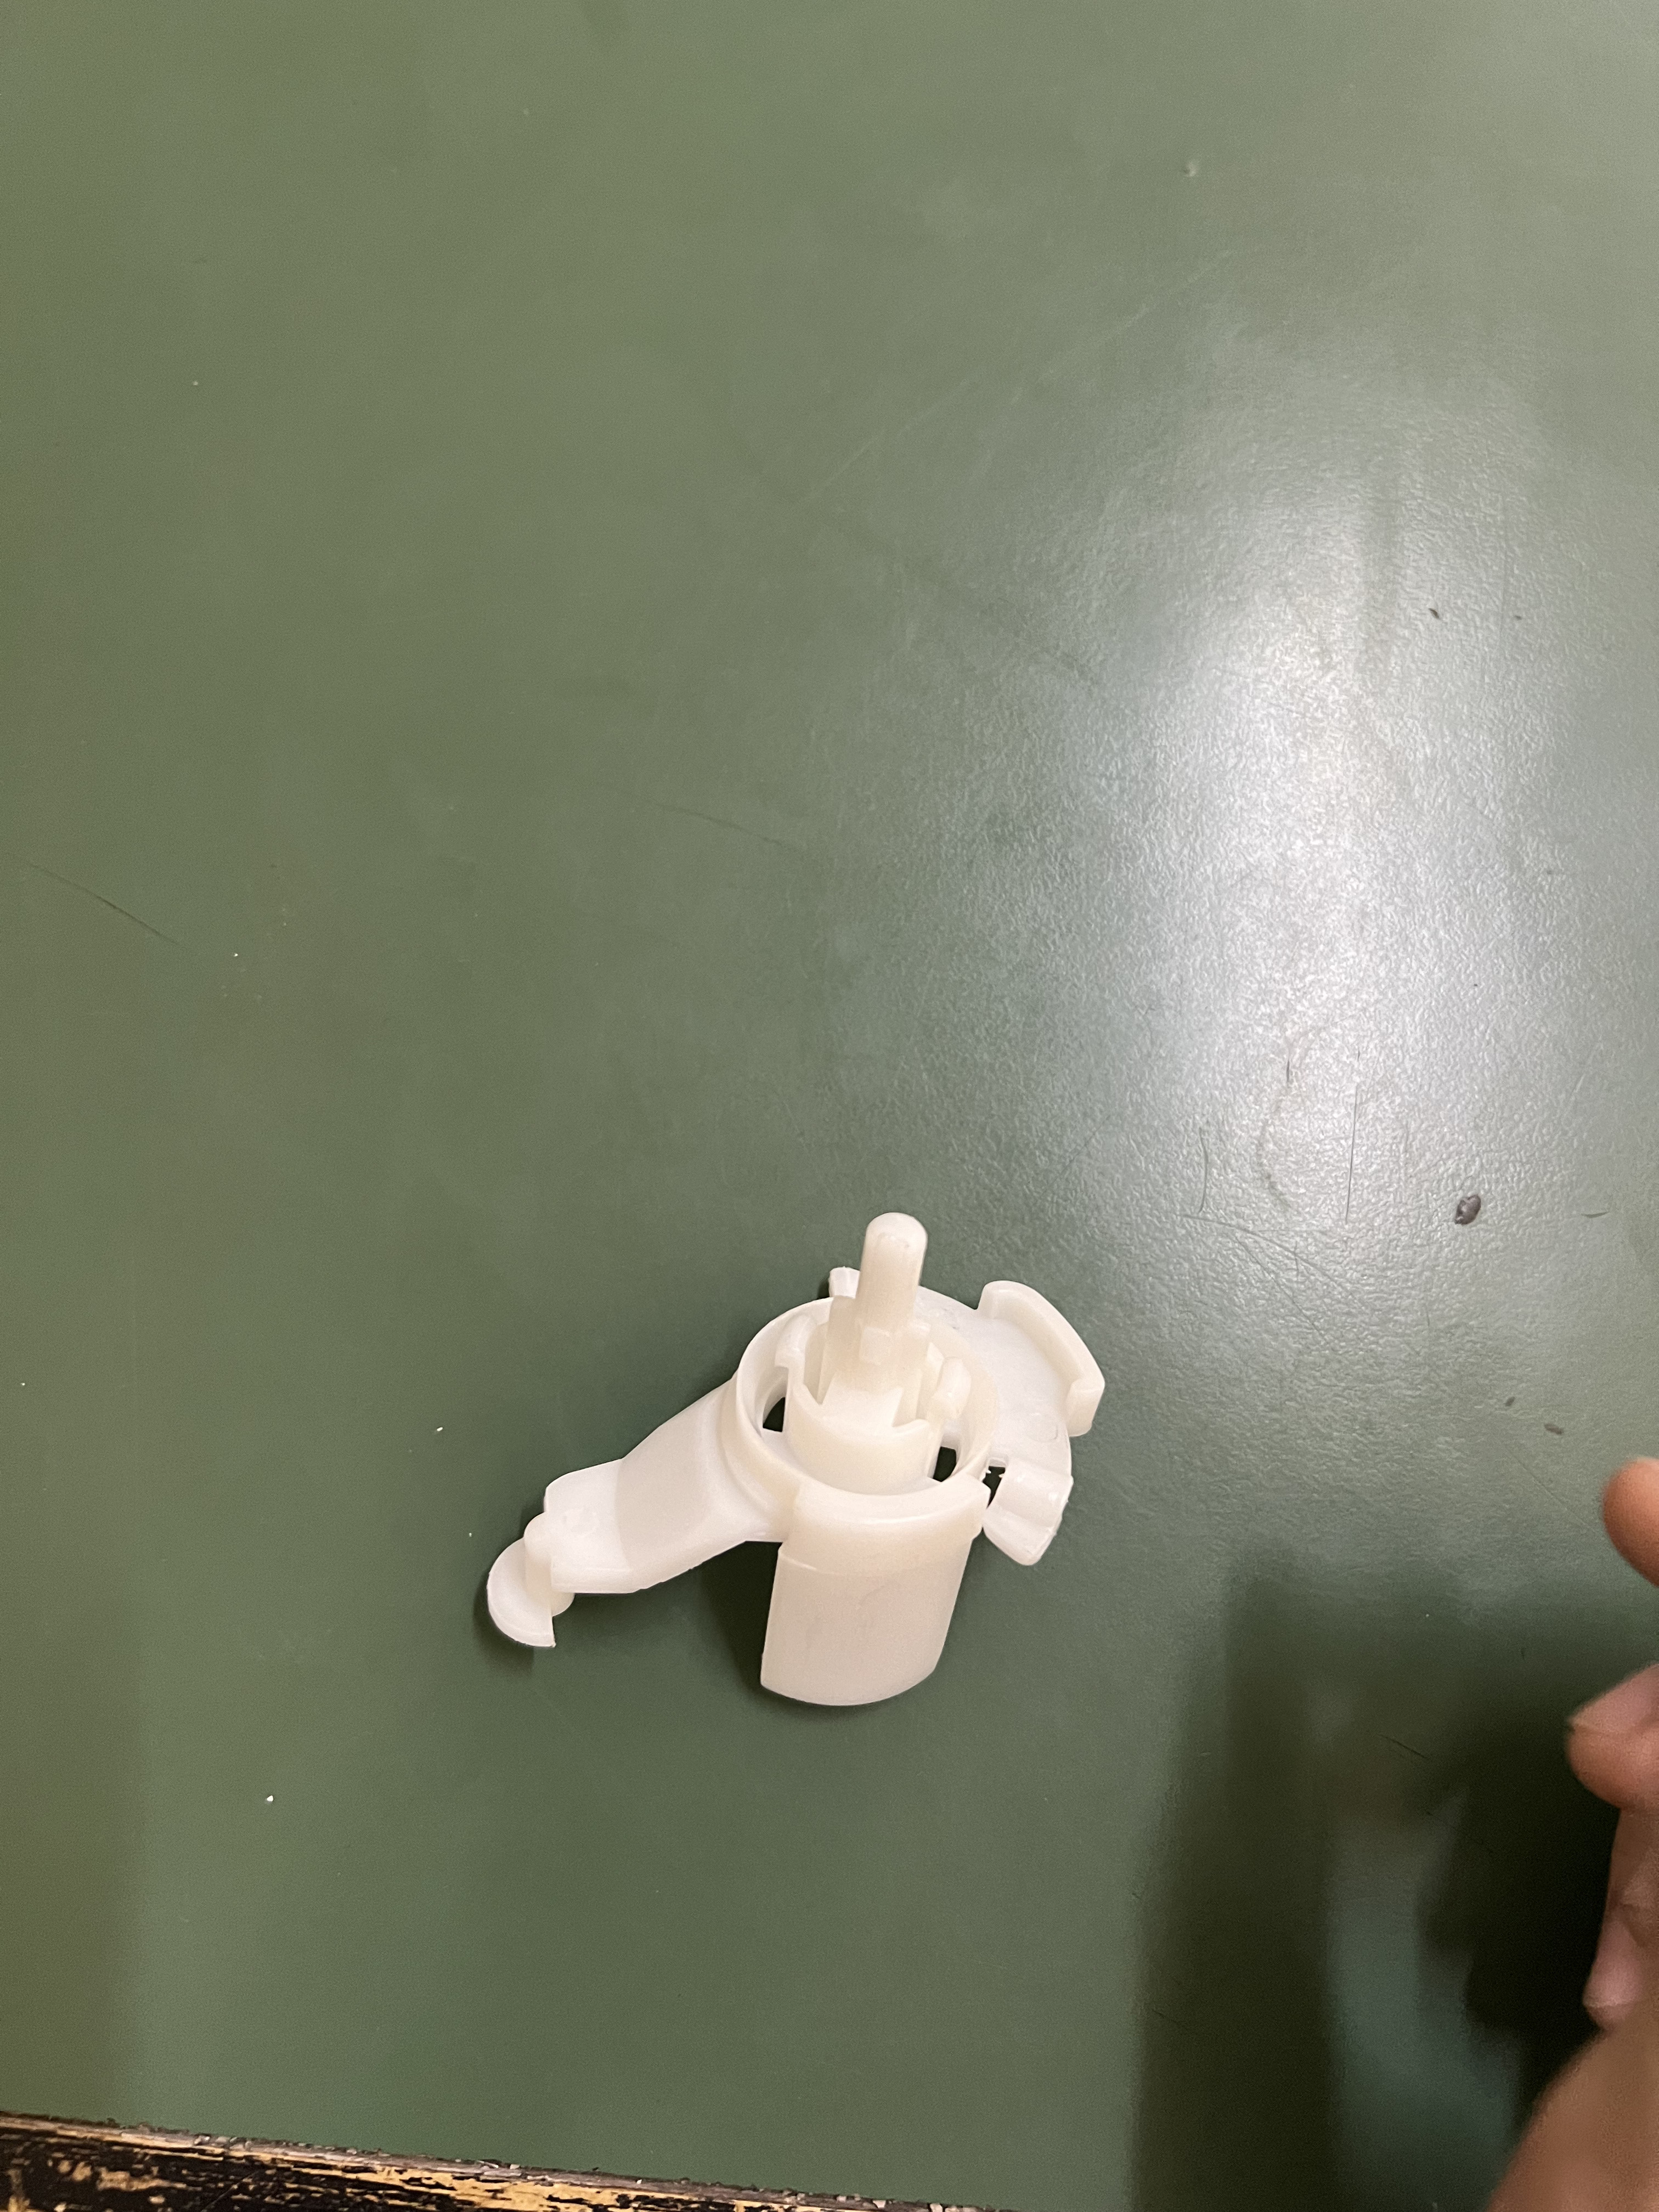drain_lever: (425, 1197, 1136, 1730)
